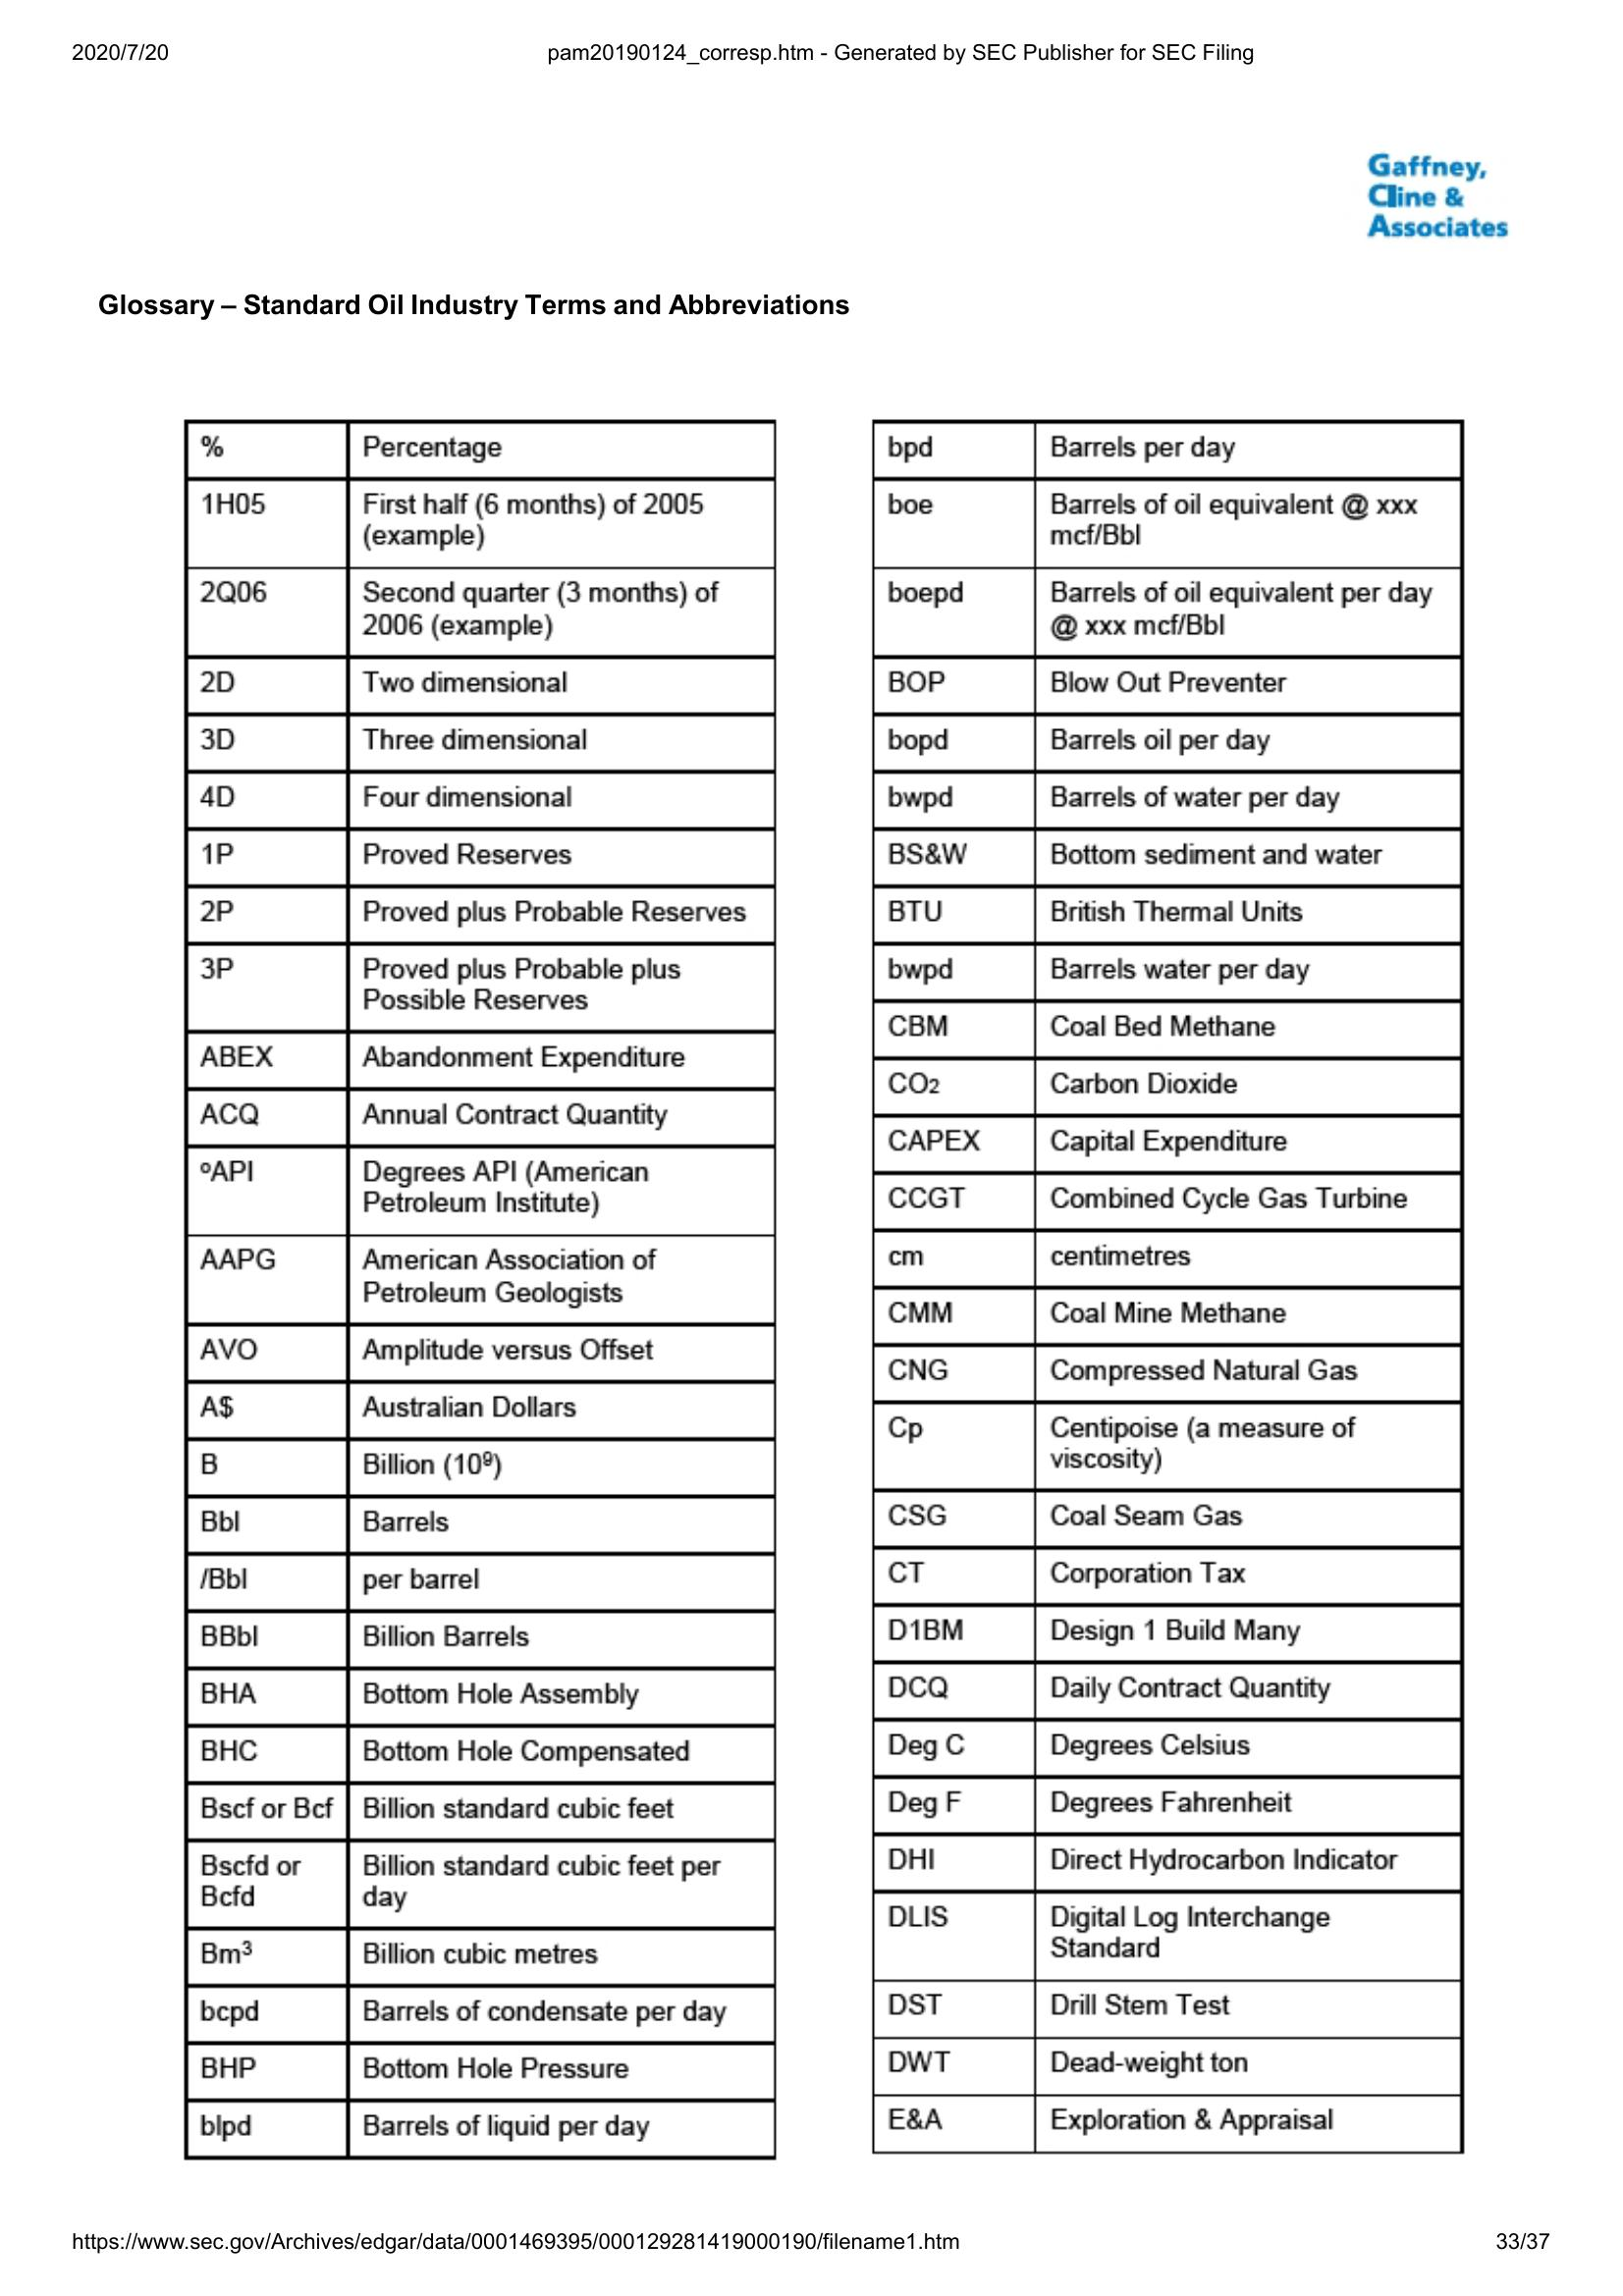table: (181, 413, 787, 2170), (866, 413, 1472, 2161)
